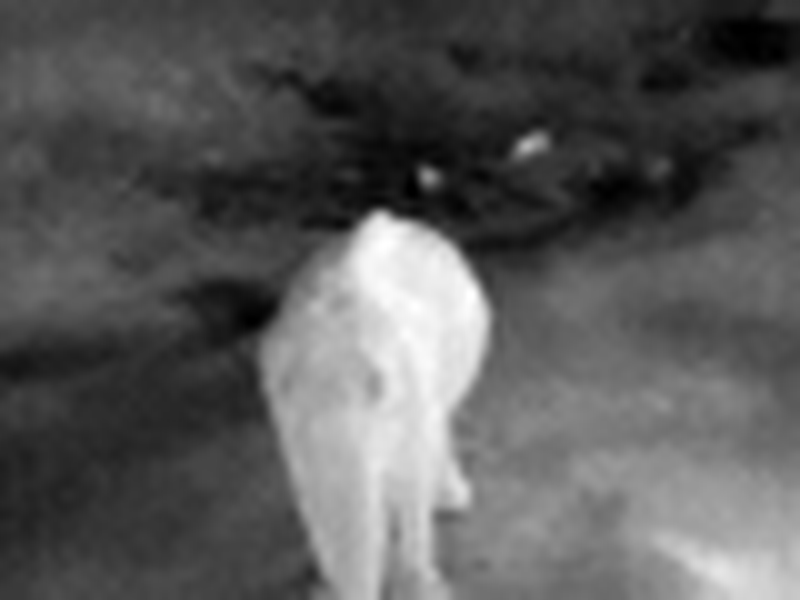elephant: (203, 221, 532, 594)
